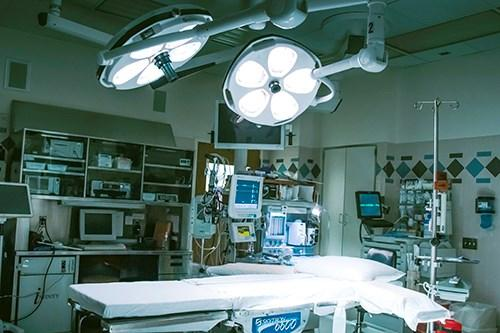Monitor: (0, 173, 39, 233), (226, 169, 268, 223)
Saline Stand: (412, 88, 469, 301)
bed: (71, 252, 423, 332)
